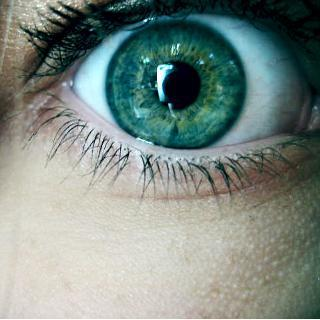pupil: (152, 60, 201, 109)
